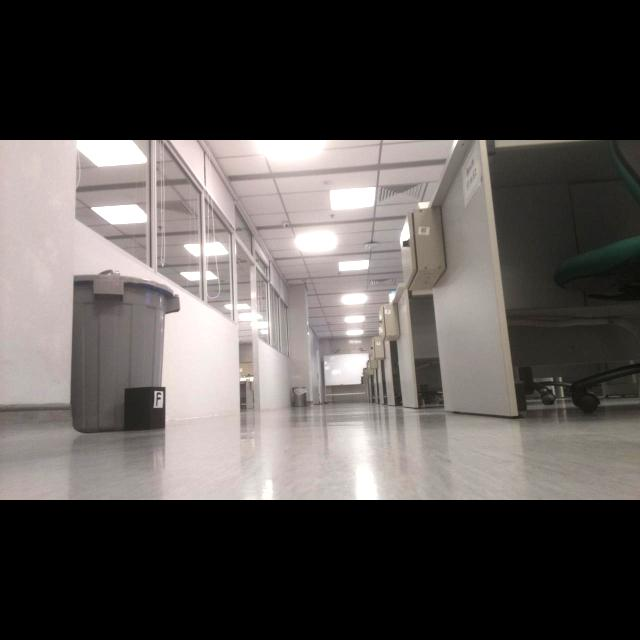F: (156, 392, 161, 407)
